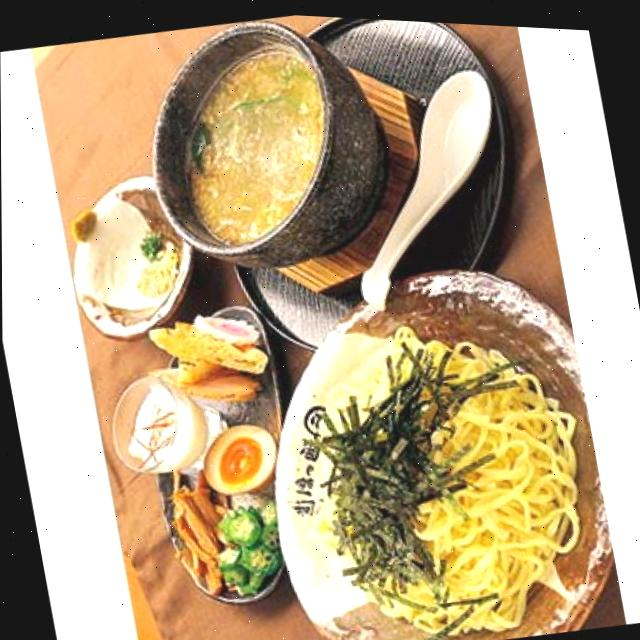面条主食: (38, 2, 587, 640)
